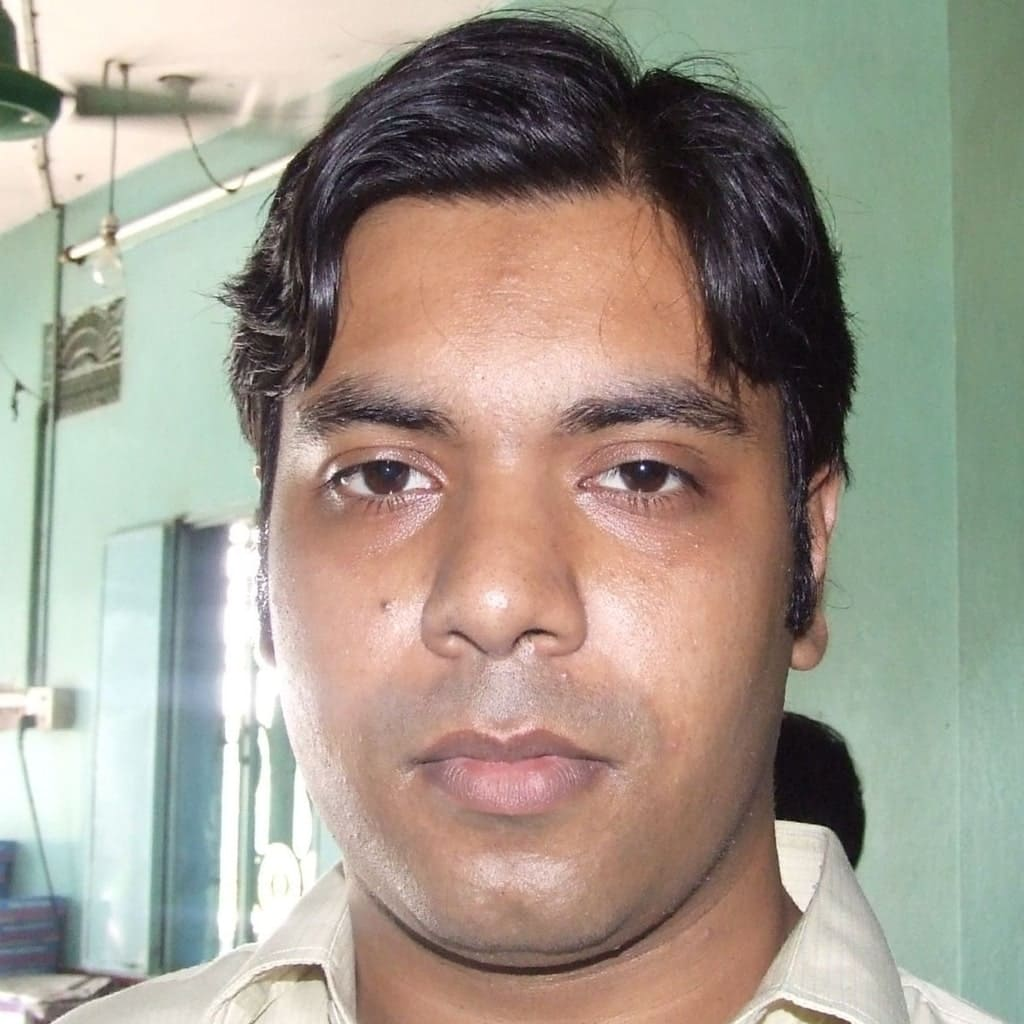without_mask: (280, 261, 736, 880)
